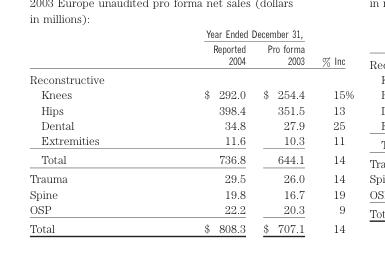table: (28, 28, 354, 234)
table column: (28, 28, 150, 234), (150, 28, 253, 234), (253, 28, 312, 234), (312, 28, 354, 234)
table column header: (28, 28, 354, 69)
table projected row header: (28, 69, 354, 86)
table row: (28, 41, 354, 69), (28, 149, 354, 168), (28, 168, 354, 186), (28, 69, 354, 86), (28, 132, 354, 149), (28, 201, 354, 218), (28, 101, 354, 117), (28, 218, 354, 234), (28, 86, 354, 101), (28, 117, 354, 132), (28, 186, 354, 201), (28, 28, 354, 41)
table spanning cell: (150, 28, 312, 41), (312, 28, 354, 69)
